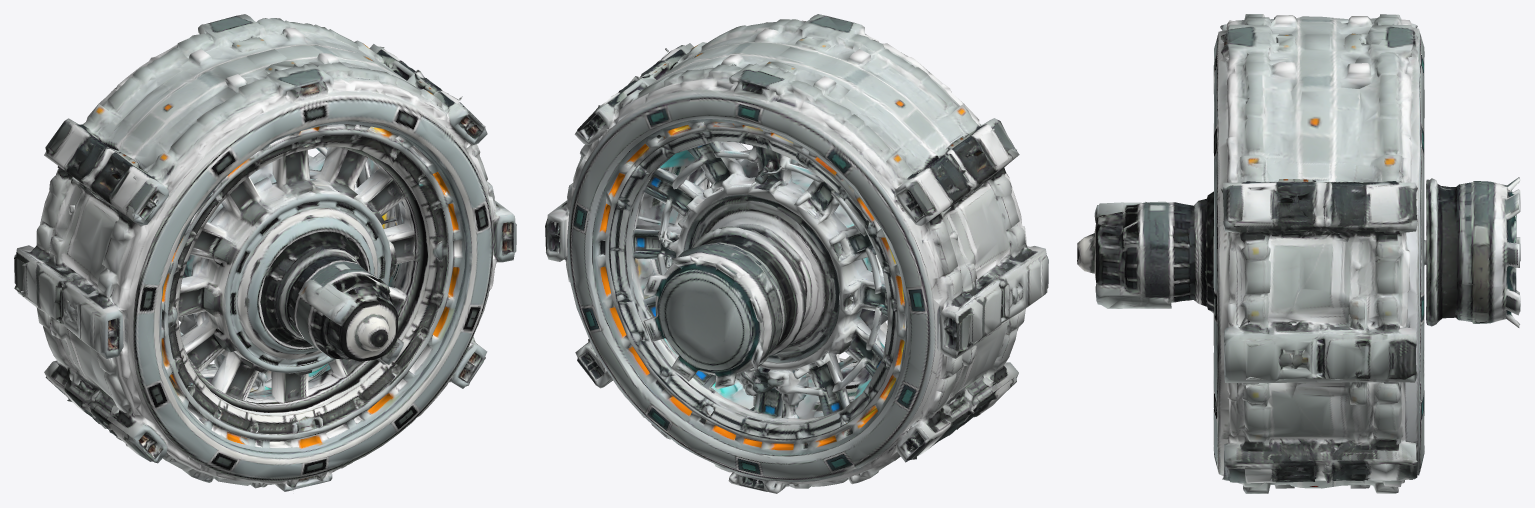
File: wyber-station.glb
3 views of the same model, side by side, from view 1: azimuth 30°, elevation 25°; view 2: azimuth 150°, elevation 25°; view 3: azimuth 270°, elevation 25° (orthographic). The views are drawn at different scales.
Bounding box in the file's own units: 1.91 × 1.77 × 1.63.
1 material, 1 textured.
